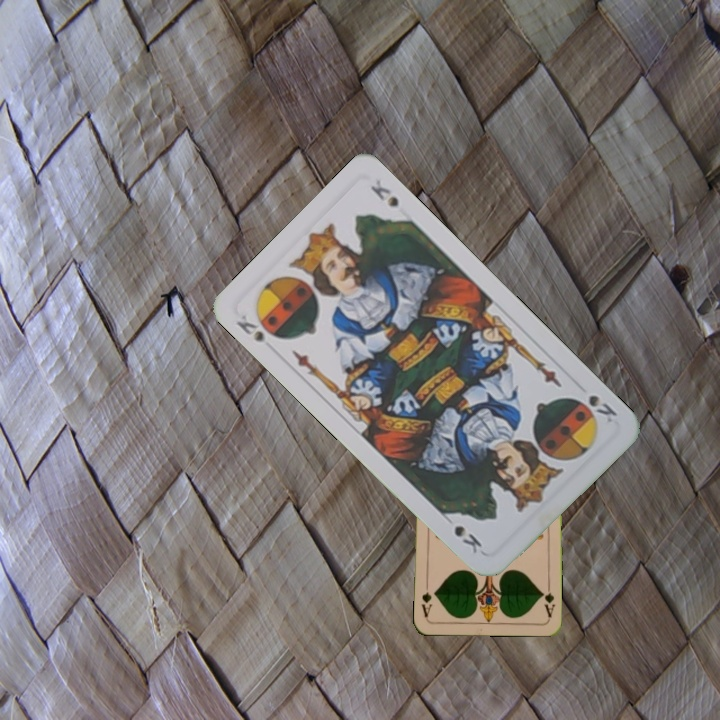GA: (538, 580, 557, 620)
SK: (232, 308, 284, 345), (584, 391, 620, 426)
